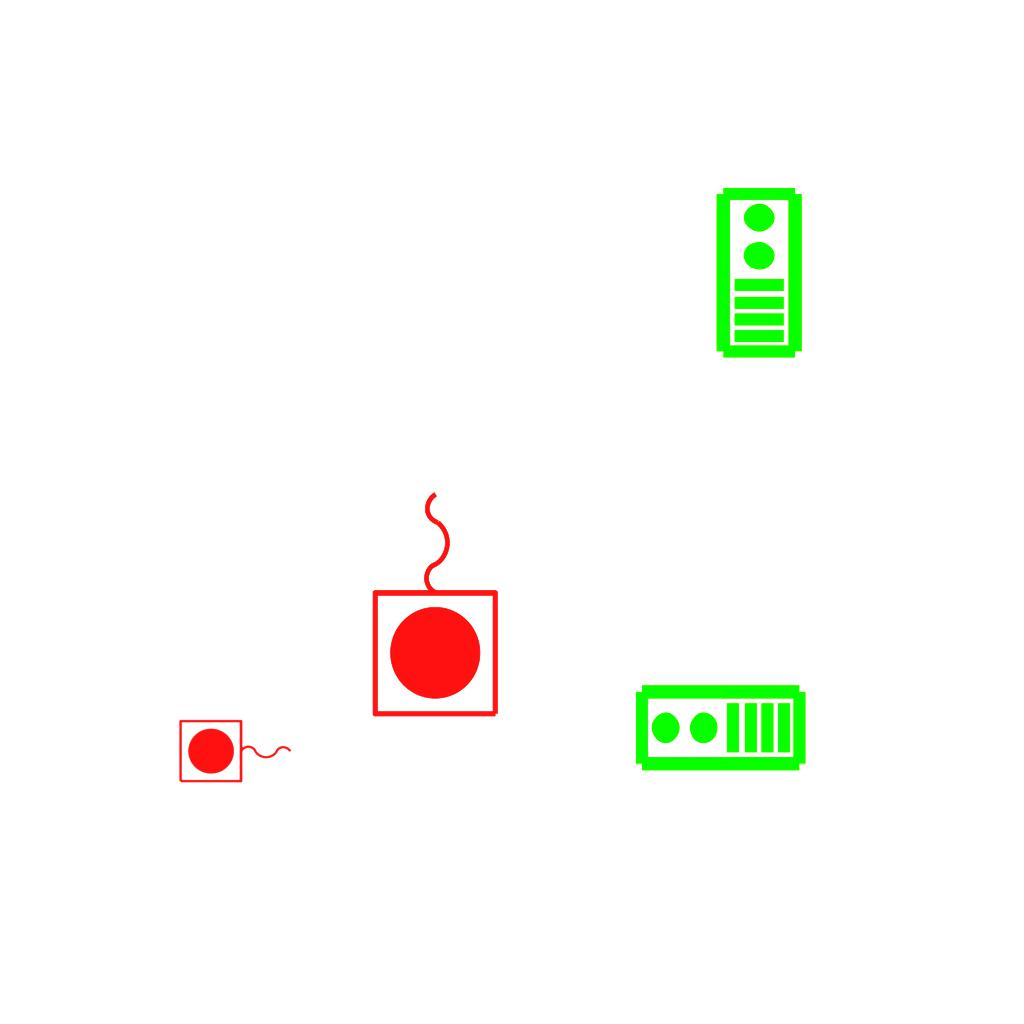Gegensprechanlage_mit_Video: (632, 682, 808, 777), (710, 184, 805, 360)
Zugtaster: (365, 481, 509, 725), (175, 716, 297, 788)
